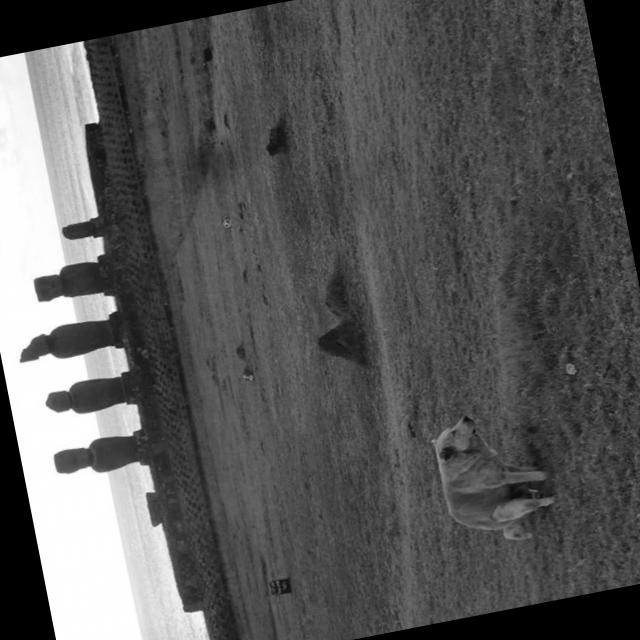squatting: (420, 396, 567, 558)
